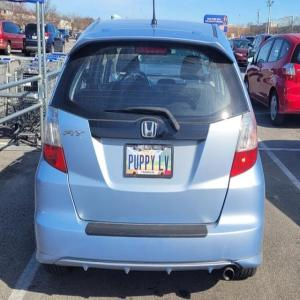Plate: (124, 144, 174, 178)
